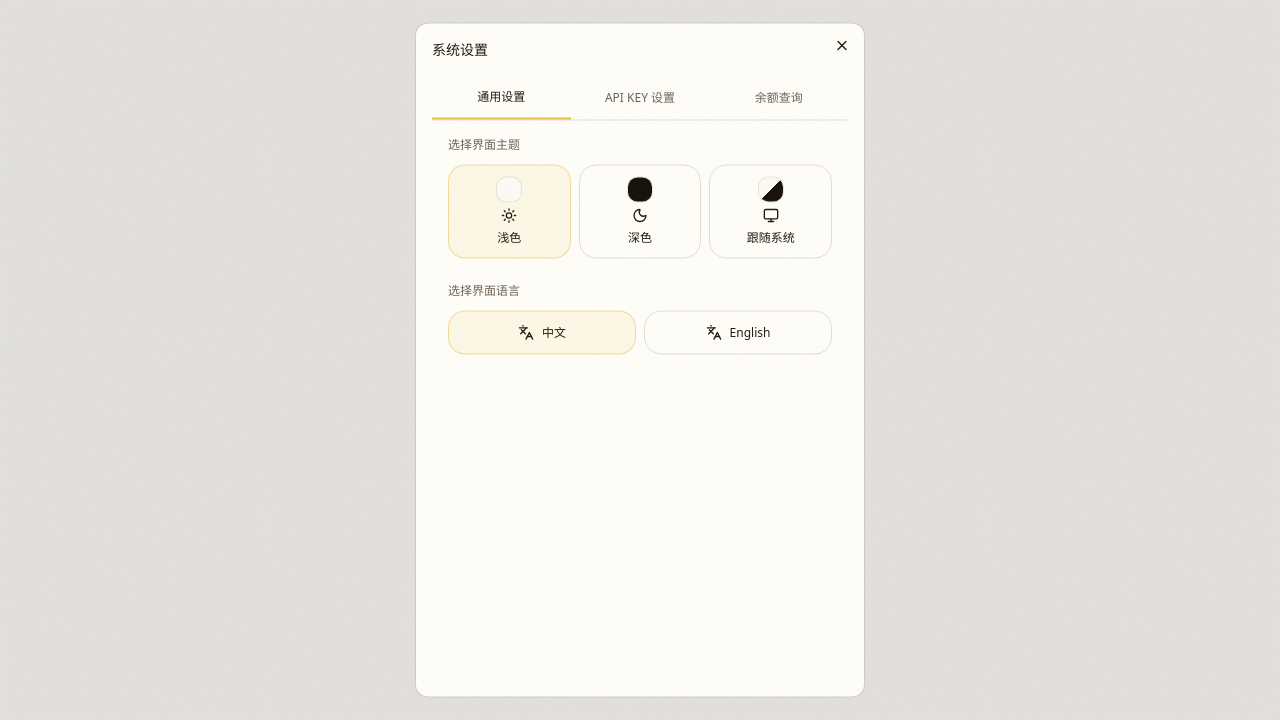
SettingsDialog › 切换到余额查询标签显示查询界面
The image size is (1280, 720).
Click the button "余额查询". click: {"x": 779, "y": 98}
box: [709,76,848,120]
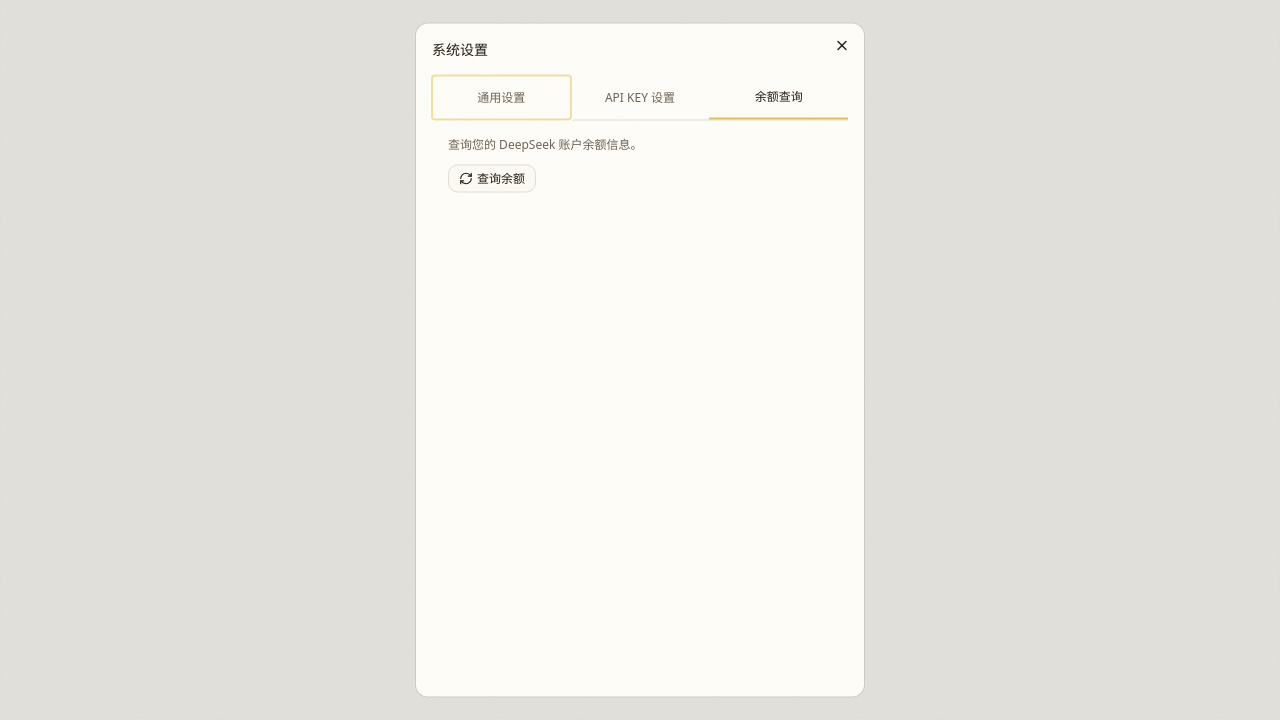
Result: the button "查询余额" is shown at [448,164,536,192]
